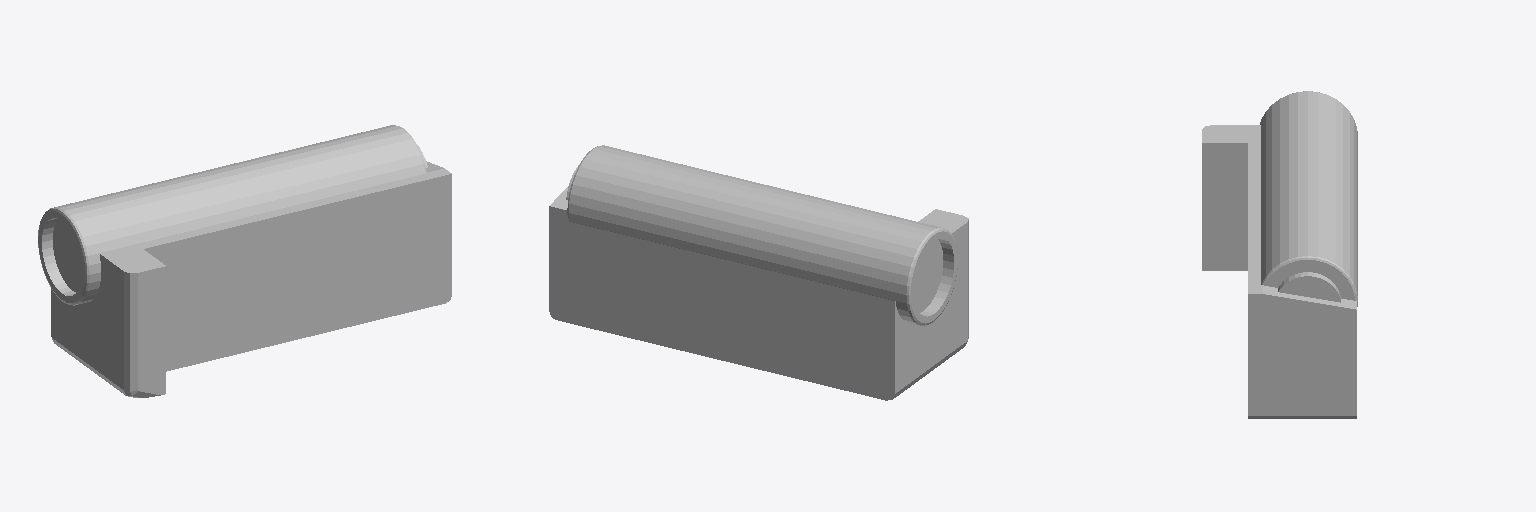
File: camcorder.obj
3 views of the same model, side by side, from view 1: azimuth 30°, elevation 25°; view 2: azimuth 150°, elevation 25°; view 3: azimuth 270°, elevation 25° (orthographic).
Visible parts, largest first — view 1: Cube; view 2: Cube; view 3: Cube.
Boxes of the visible parts, x1=… form: Cube: x1=38, y1=125, x2=451, y2=397; Cube: x1=549, y1=145, x2=968, y2=400; Cube: x1=1202, y1=91, x2=1357, y2=418.
Bounding box in the file's own units: 3.96 × 1.64 × 1.49.